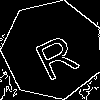R: (27, 25, 82, 82)
